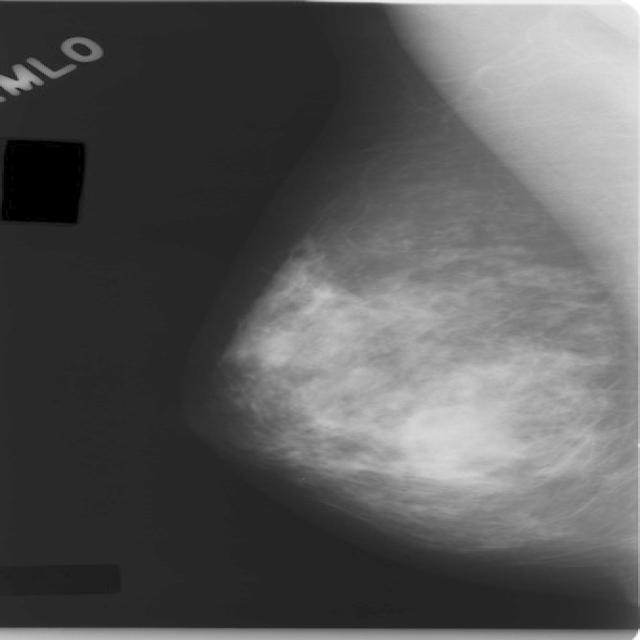tumour: (397, 406, 525, 484)
